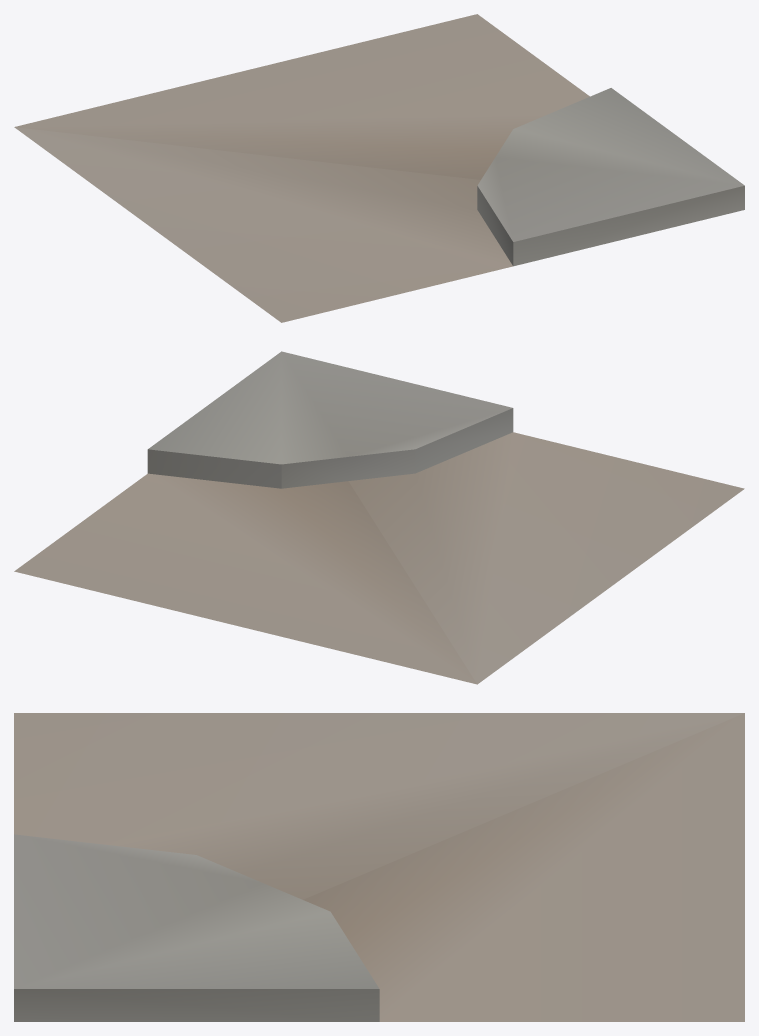
File: road-dirt-corner-outer.glb
The picture shows the model from 3 angles, top to bottom: view 1: azimuth 30°, elevation 25°; view 2: azimuth 150°, elevation 25°; view 3: azimuth 270°, elevation 25°; orthographic projection. The views are drawn at different scales.
Visible parts, largest first — view 1: road-dirt-corner-outer; view 2: road-dirt-corner-outer; view 3: road-dirt-corner-outer.
Part boxes in pixels (x1=…): road-dirt-corner-outer: x1=14, y1=14, x2=744, y2=322; road-dirt-corner-outer: x1=14, y1=351, x2=744, y2=684; road-dirt-corner-outer: x1=14, y1=713, x2=744, y2=1021.
Size of the model in its own units: 1 by 0.05 by 1.
